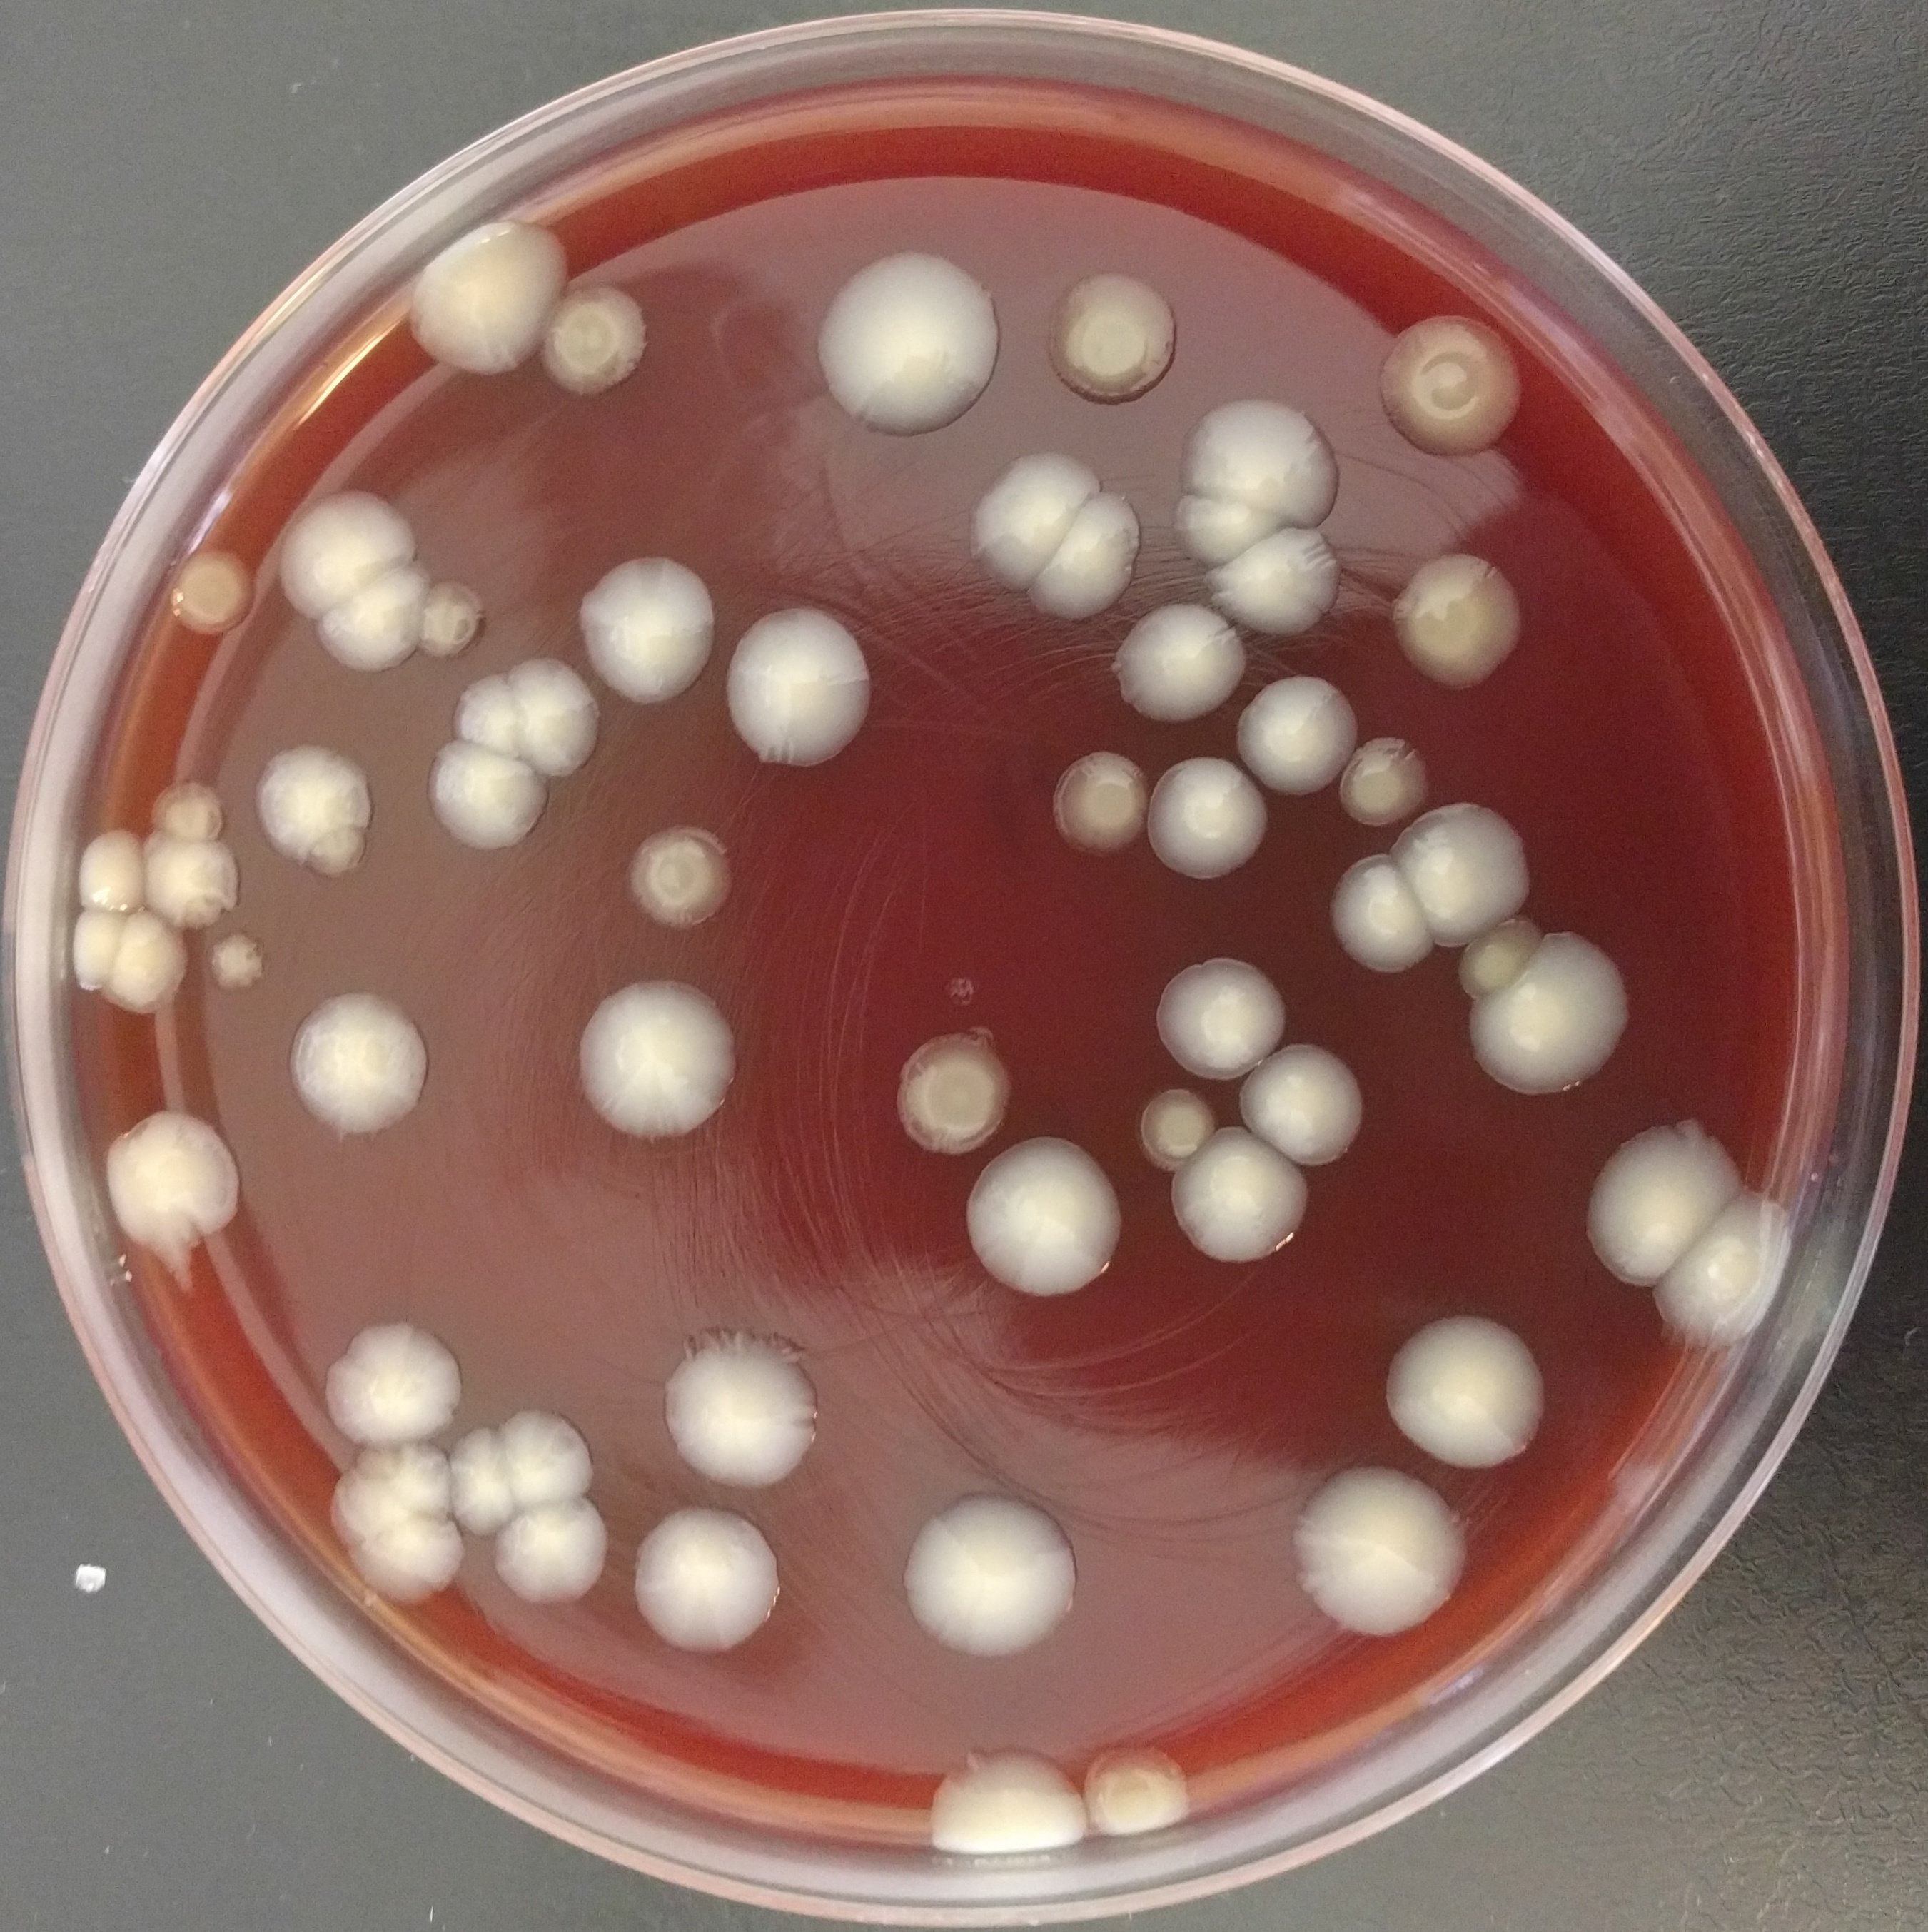sp05: (817, 242, 1006, 447), (1287, 1459, 1481, 1644), (906, 1485, 1088, 1664), (1375, 1310, 1566, 1475), (570, 978, 747, 1151), (403, 214, 586, 380), (1368, 295, 1531, 461), (1469, 927, 1628, 1097), (731, 597, 886, 770), (664, 1324, 828, 1487), (960, 1136, 1116, 1303), (1649, 1189, 1797, 1363), (1589, 1121, 1748, 1282), (279, 985, 440, 1143), (101, 1107, 249, 1275), (570, 547, 720, 712), (637, 1505, 793, 1662), (1156, 1123, 1317, 1272), (966, 433, 1098, 608), (922, 1745, 1096, 1865), (1393, 796, 1536, 941), (1185, 392, 1342, 523), (318, 1314, 470, 1446), (1234, 1035, 1370, 1181), (1051, 265, 1185, 406), (274, 486, 422, 613), (1225, 669, 1372, 796), (1149, 954, 1292, 1083), (1149, 743, 1271, 892), (254, 742, 380, 883), (1028, 480, 1141, 636), (1395, 558, 1529, 687), (1322, 857, 1439, 1001), (1197, 528, 1345, 641), (1118, 606, 1255, 726), (883, 1021, 1003, 1157), (424, 740, 553, 857), (316, 558, 433, 680), (498, 1510, 620, 1616), (341, 1524, 470, 1621), (1165, 477, 1299, 569), (1038, 742, 1149, 849), (508, 659, 599, 789), (549, 281, 648, 399), (621, 818, 717, 931), (1082, 1745, 1190, 1844), (145, 828, 240, 934), (1349, 712, 1434, 830), (164, 542, 251, 655), (108, 917, 191, 1030), (498, 1407, 597, 1496), (321, 1464, 422, 1549), (459, 1411, 514, 1556), (1460, 911, 1548, 1000), (420, 574, 491, 682), (74, 823, 145, 920), (1141, 1091, 1222, 1167), (65, 904, 125, 1005), (452, 660, 514, 752), (205, 931, 281, 1000), (148, 779, 226, 834)
